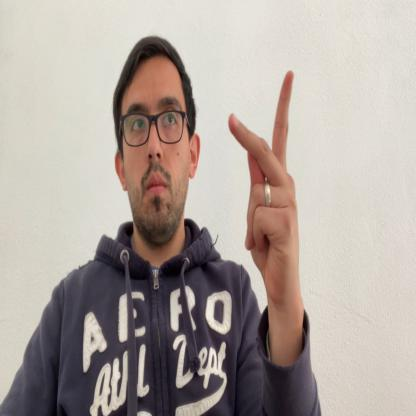P: (228, 69, 300, 313)
